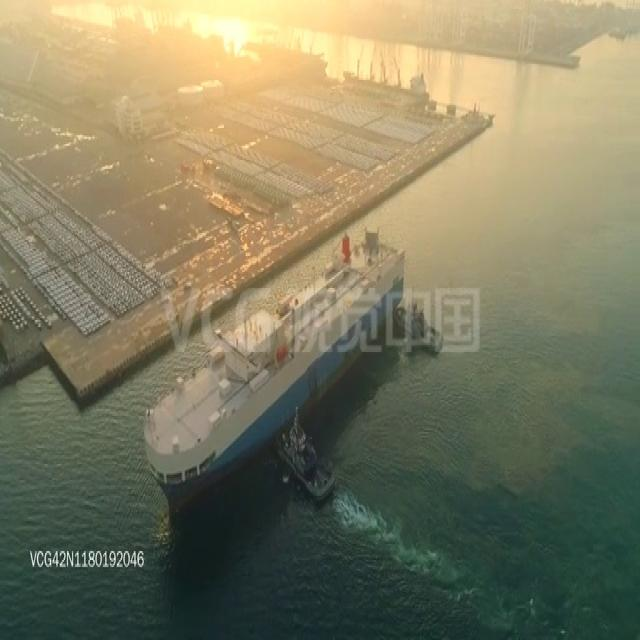cargoship: (144, 230, 404, 503)
houseboat: (276, 419, 336, 500), (396, 302, 446, 354)
